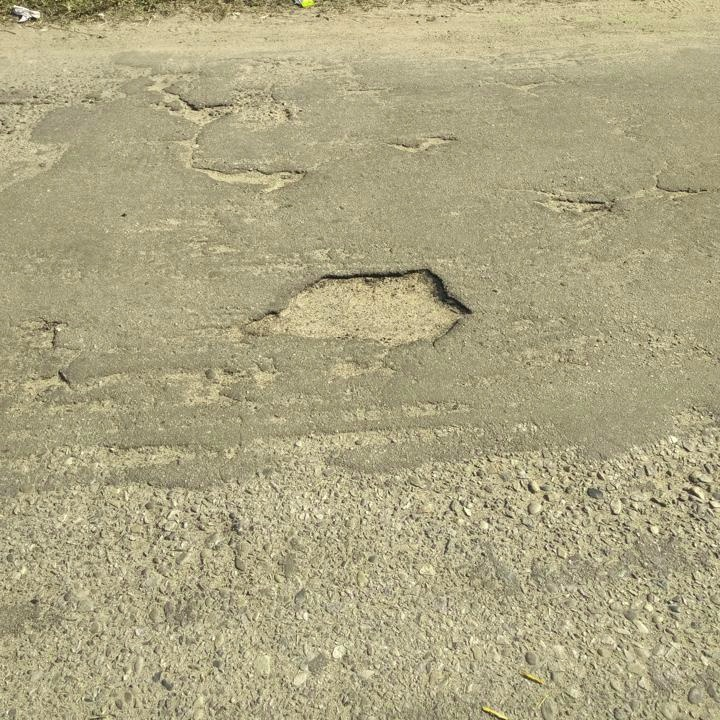pothole: (244, 261, 476, 346), (150, 86, 236, 126), (187, 165, 311, 183)
